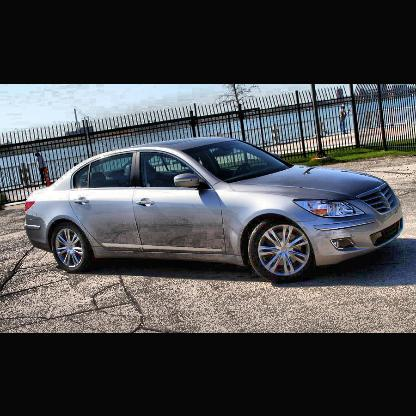Hyundai Genesis Sedan 2012: (23, 133, 408, 290)
